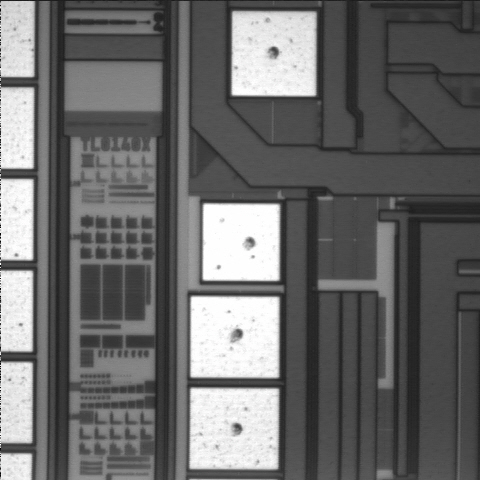pad: (190, 296, 279, 378), (190, 388, 279, 469), (232, 11, 316, 96), (203, 203, 280, 281)
